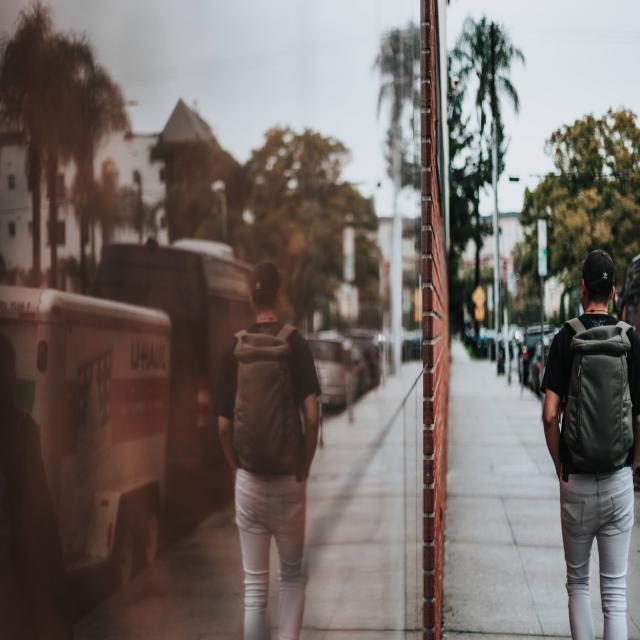adult: (542, 252, 640, 640)
